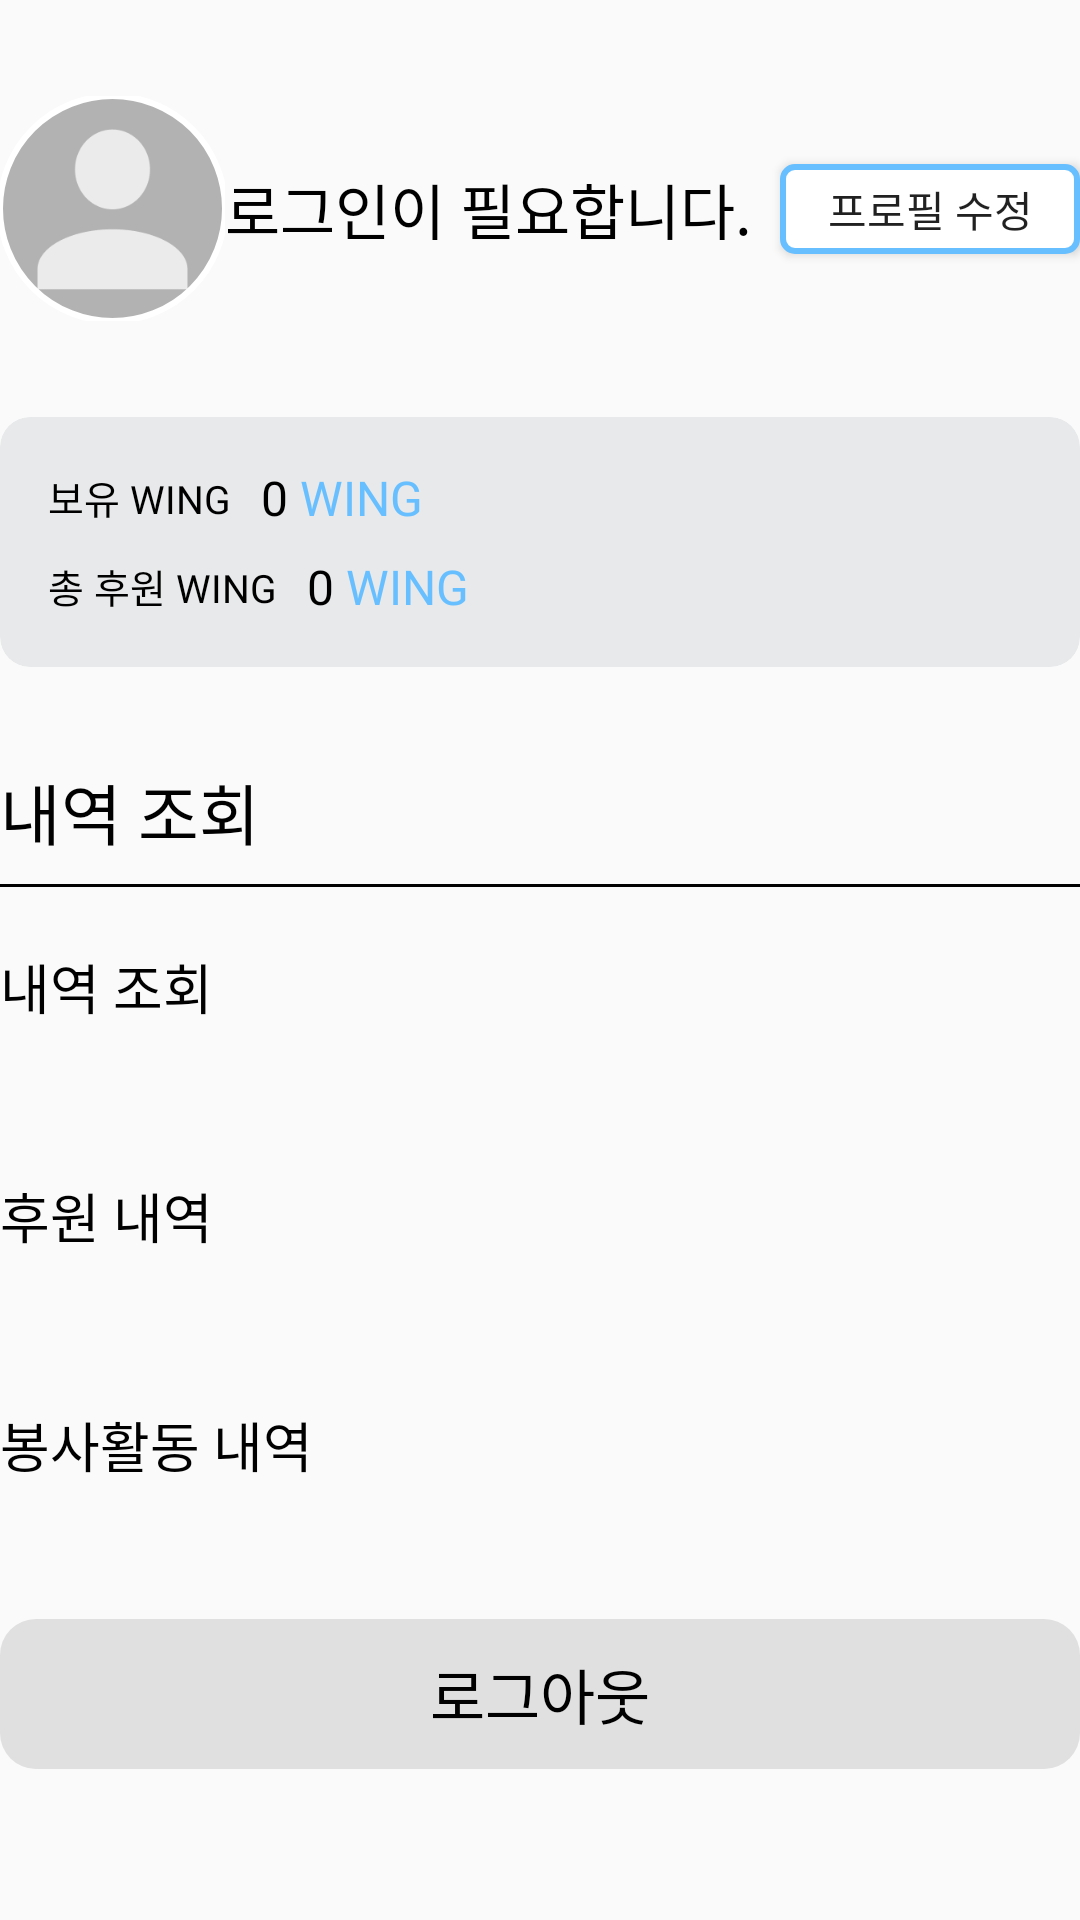

Icons on this 1080 x 1920 Android screen, each with its box as bbox=[x1, y1, x2, y2]:
profile: bbox=[3, 99, 222, 318]
